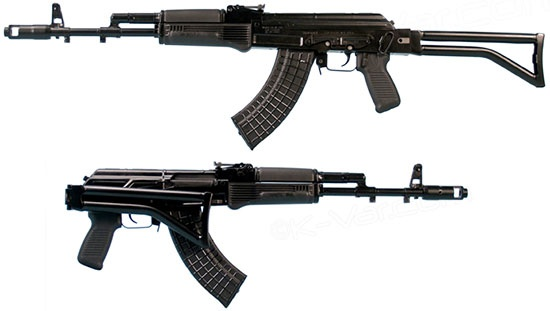ak47: (7, 4, 545, 148), (60, 163, 469, 309)
